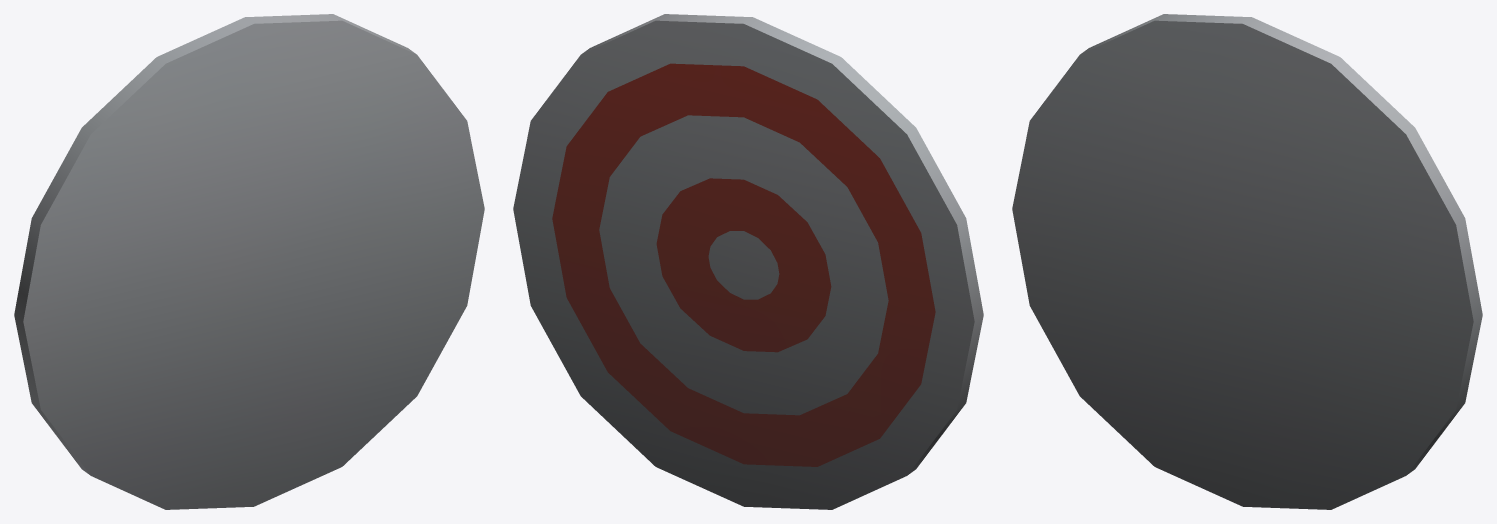
The model's file is TargetBig.fbx.
3 views of the same model, side by side, from view 1: azimuth 30°, elevation 25°; view 2: azimuth 150°, elevation 25°; view 3: azimuth 330°, elevation 25° (orthographic).
Visible parts, largest first — view 1: TargetBig; view 2: TargetBig; view 3: TargetBig.
Boxes of the visible parts, x1=… form: TargetBig: x1=14, y1=14, x2=484, y2=509; TargetBig: x1=513, y1=14, x2=983, y2=509; TargetBig: x1=1012, y1=14, x2=1482, y2=509.
Bounding box in the file's own units: 1 × 0.0343 × 1.
